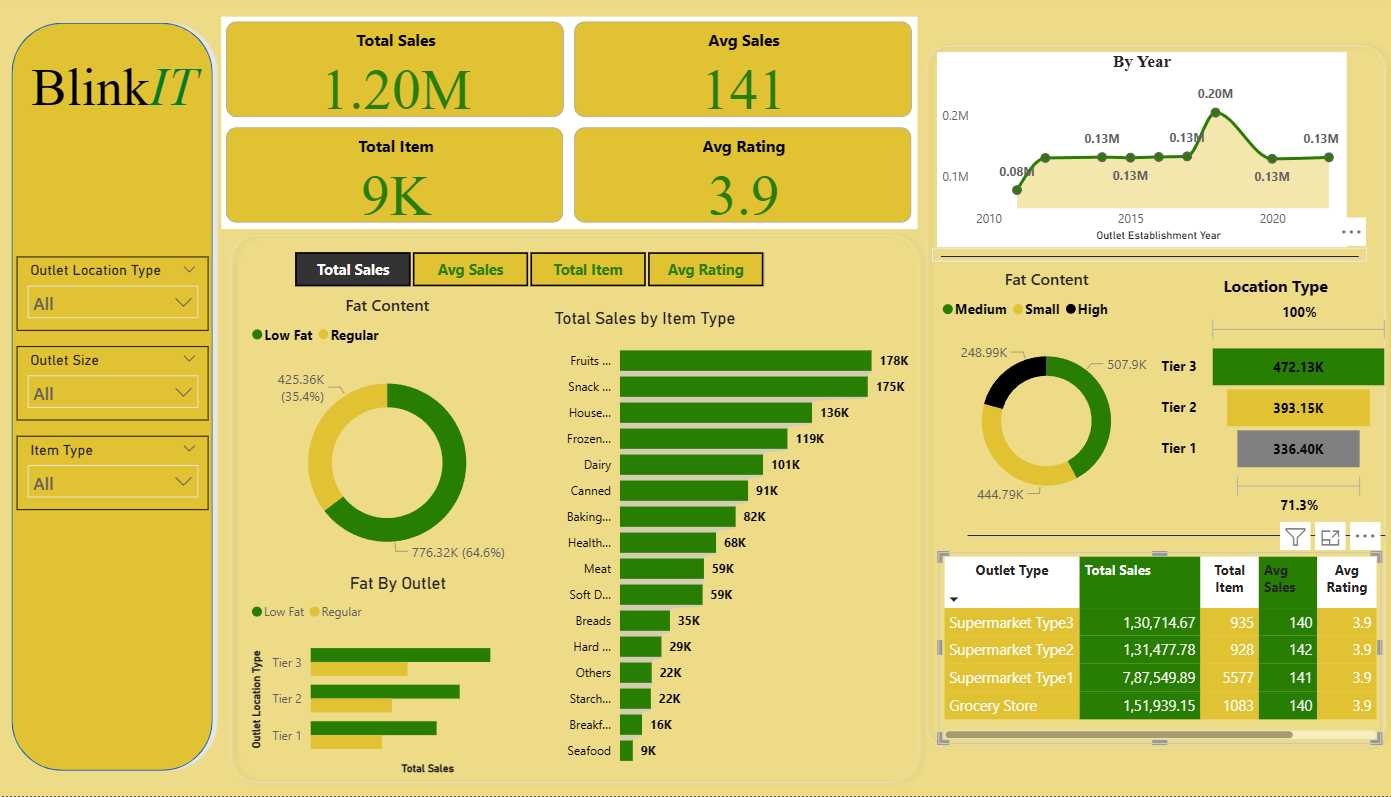

The dashboard page shown, as its layout file describes it:
{"tool":"powerbi","page":{"name":"Page 1","canvas":[1400,800],"ordinal":0},"visuals":[{"type":"shape","box":[222.9,228.6,708.6,567.1],"z":0},{"type":"shape","box":[5.7,17.1,214.3,762.9],"z":1000},{"type":"textbox","box":[5.7,52.9,231.4,88.6],"z":2000},{"type":"donutChart","title":"Fat Content","fields":{"Y":["BlinkIT-Grocery-Data.Total Sales"],"Category":["BlinkIT-Grocery-Data.Item Fat Content"]},"box":[248.6,295.7,282.9,290],"z":3000},{"type":"slicer","fields":{"Values":["Metrics.Metrics"]},"box":[271.4,247.1,520,48.6],"z":4000},{"type":"clusteredBarChart","title":"Fat By Outlet","fields":{"Category":["BlinkIT-Grocery-Data.Outlet Location Type"],"Y":["BlinkIT-Grocery-Data.Total Sales"],"Series":["BlinkIT-Grocery-Data.Item Fat Content"]},"box":[248.6,575.7,304.3,207.1],"z":5000},{"type":"barChart","fields":{"Category":["BlinkIT-Grocery-Data.Item Type"],"Y":["BlinkIT-Grocery-Data.Total Sales"]},"box":[552.9,310,378.6,470],"z":6000},{"type":"shape","box":[921.4,38.6,478.6,722.9],"z":7000},{"type":"areaChart","title":"By Year","fields":{"Category":["BlinkIT-Grocery-Data.Outlet Establishment Year"],"Y":["BlinkIT-Grocery-Data.Total Sales"]},"box":[941.4,52.9,411.4,195.7],"z":8000},{"type":"donutChart","title":"Fat Content","fields":{"Category":["BlinkIT-Grocery-Data.Outlet Size"],"Y":["BlinkIT-Grocery-Data.Total Sales"]},"box":[941.4,270,220,257.1],"z":9000},{"type":"cardVisual","fields":{"Data":["BlinkIT-Grocery-Data.Total Sales","BlinkIT-Grocery-Data.Avg Sales","BlinkIT-Grocery-Data.Total Item","BlinkIT-Grocery-Data.Avg Rating"]},"box":[222.9,17.1,698.6,212.9],"z":10000},{"type":"funnel","title":"Location Type","fields":{"Category":["BlinkIT-Grocery-Data.Outlet Location Type"],"Y":["BlinkIT-Grocery-Data.Total Sales"]},"box":[1161.4,275.7,238.6,247.1],"z":11000},{"type":"tableEx","fields":{"Values":["BlinkIT-Grocery-Data.Outlet Type","BlinkIT-Grocery-Data.Total Sales","BlinkIT-Grocery-Data.Total Item","BlinkIT-Grocery-Data.Avg Sales","BlinkIT-Grocery-Data.Avg Rating","Sum(BlinkIT-Grocery-Data.Item Visibility)"]},"box":[942.9,554.3,444.3,192.9],"z":12000},{"type":"slicer","fields":{"Values":["BlinkIT-Grocery-Data.Outlet Location Type"]},"box":[17.1,258.6,192.9,74.3],"z":13000},{"type":"slicer","fields":{"Values":["BlinkIT-Grocery-Data.Outlet Size"]},"box":[17.1,348.6,192.9,74.3],"z":14000},{"type":"slicer","fields":{"Values":["BlinkIT-Grocery-Data.Item Type"]},"box":[17.1,438.6,192.9,74.3],"z":15000},{"type":"shape","box":[962.9,530,437.1,12.9],"z":16000},{"type":"shape","box":[935.7,250,437.1,12.9],"z":17000}]}

Visuals, with their boxes in screenshot pixels (x1, y1, x2, y2), scaled from the page's 1400x800 canvas onto the 1391x797 screenshot:
shape: 221,228,926,793
shape: 6,17,219,777
textbox: 6,53,236,141
"Fat Content" donutChart: 247,295,528,584
slicer - Metrics.Metrics: 270,246,786,295
"Fat By Outlet" clusteredBarChart: 247,574,549,780
barChart - BlinkIT-Grocery-Data.Item Type x BlinkIT-Grocery-Data.Total Sales: 549,309,926,777
shape: 915,38,1390,759
"By Year" areaChart: 935,53,1344,248
"Fat Content" donutChart: 935,269,1154,525
cardVisual - BlinkIT-Grocery-Data.Total Sales x BlinkIT-Grocery-Data.Avg Sales: 221,17,916,229
"Location Type" funnel: 1154,275,1390,521
tableEx - BlinkIT-Grocery-Data.Outlet Type x BlinkIT-Grocery-Data.Total Sales: 937,552,1378,744
slicer - BlinkIT-Grocery-Data.Outlet Location Type: 17,258,209,332
slicer - BlinkIT-Grocery-Data.Outlet Size: 17,347,209,421
slicer - BlinkIT-Grocery-Data.Item Type: 17,437,209,511
shape: 957,528,1390,541
shape: 930,249,1364,262
